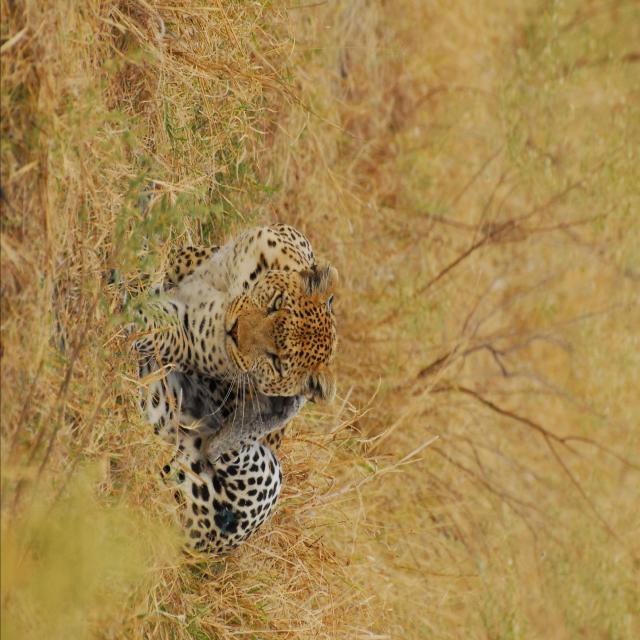Leopard: (121, 205, 357, 536)
